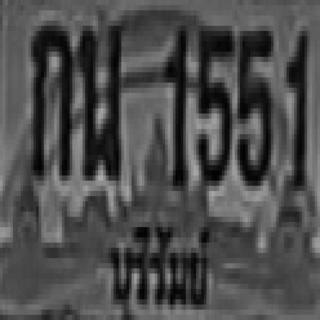A01: (28, 21, 72, 175)
A25: (76, 21, 122, 175)
N01: (161, 21, 190, 186), (284, 26, 307, 191), (284, 26, 305, 186)
N05: (195, 21, 231, 181), (235, 26, 271, 181)
P06: (98, 212, 217, 320)
